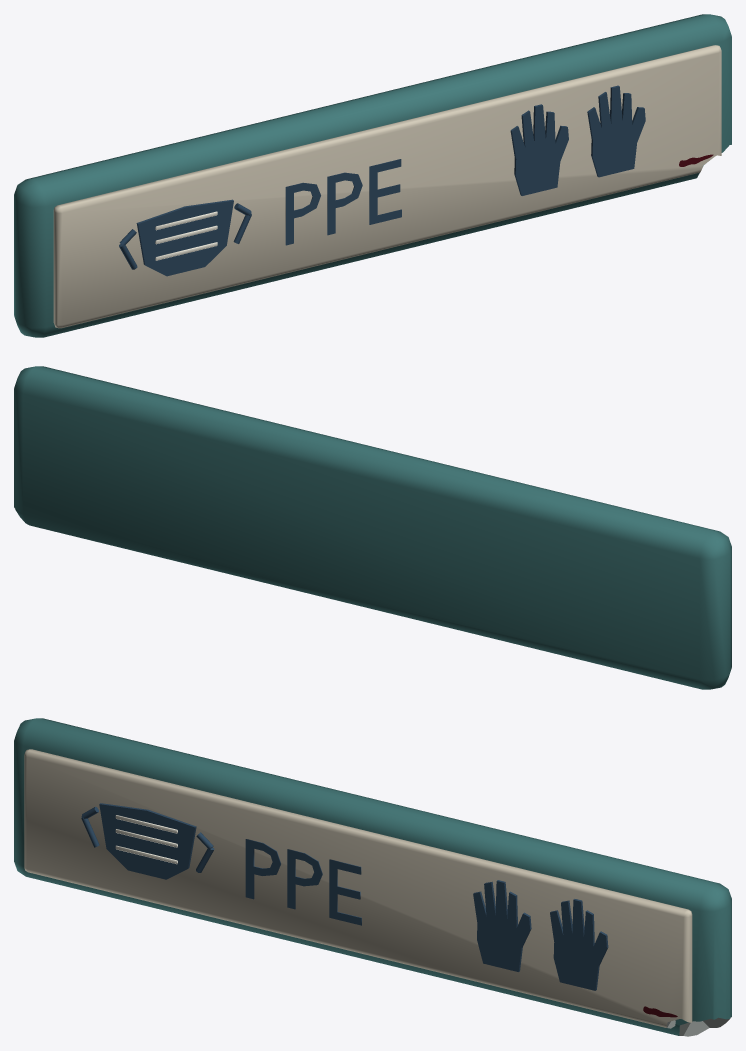
The model's file is isolation_ppe_sign.glb.
3 renders of one model, top to bottom at view 1: azimuth 30°, elevation 25°; view 2: azimuth 150°, elevation 25°; view 3: azimuth 330°, elevation 25°, orthographic.
Parts seen in each view (by area): view 1: Static_Shell_Mesh; view 2: Static_Shell_Mesh; view 3: Static_Shell_Mesh.
Boxes of the visible parts, x1=… form: Static_Shell_Mesh: x1=14, y1=14, x2=731, y2=337; Static_Shell_Mesh: x1=14, y1=366, x2=731, y2=689; Static_Shell_Mesh: x1=14, y1=718, x2=731, y2=1036.
Bounding box in the file's own units: 1.48 × 0.31 × 0.1155.
